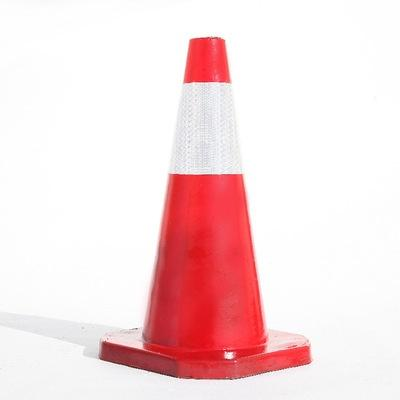cone_barrel: (133, 38, 282, 362)
